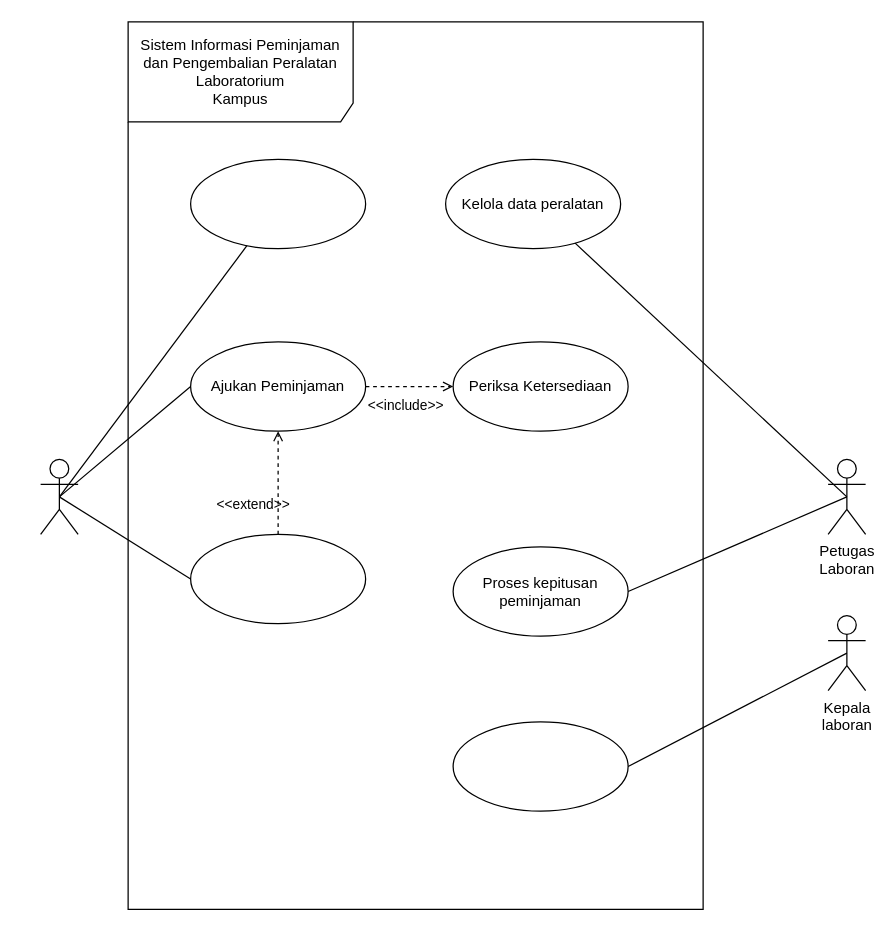
This 896x931 diagram has some shape labels left out. The box of each missing label's shape, as (x1, y1, x2, y2) in pixels:
Cetak bukti pengajuan: (189, 533, 366, 624)
Lihat ketersediaan peralatan: (189, 158, 366, 249)
Lihat laporan peminjaman: (452, 721, 628, 811)
Mahasiswa: (39, 458, 78, 534)
